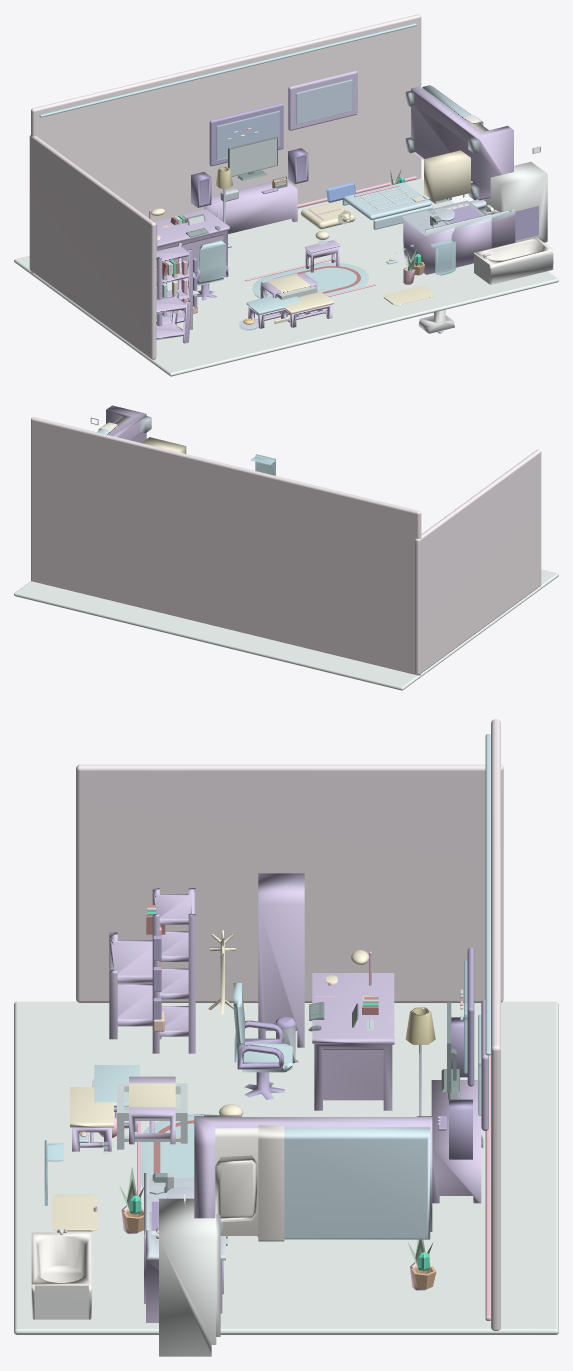
File: macaron_room.glb
3 renders of one model, top to bottom at view 1: azimuth 30°, elevation 25°; view 2: azimuth 150°, elevation 25°; view 3: azimuth 270°, elevation 25°, orthographic. The views are drawn at different scales.
Parts seen in each view (by area): view 1: RoomBackWall, RoomFloor, RoomLeftWall, KenneyBedSingleDetailed_bedSingle, KenneyKitchenFridgeDetailed_kitchenFridgeSmall, WindowFrame, KenneyTelevisionCabinetDetailed_cabinetTelevisionDoors, MediaScreenFrame, KenneyBathtubDetailed_bathtub, KenneyKitchenCabinetDrawerDetailed_kitchenCabinetDrawer, KenneyKitchenStoveDetailed_kitchenStoveElectric, KenneyKitchenUpperCabinetDetailed_kitchenCabinetUpperDouble (+22 smaller); view 2: RoomBackWall, RoomLeftWall, RoomFloor, KenneyBedSingleDetailed_bedSingle, KenneyBathroomMirror_bathroomMirror, KenneyKitchenUpperCabinetDetailed_kitchenCabinetUpperDouble; view 3: RoomFloor, RoomLeftWall, KenneyBedSingleDetailed_bedSingle, KenneyDeskDetailed_desk, KenneyKitchenFridgeDetailed_kitchenFridgeSmall, KenneyWardrobeDetailed_bookcaseClosedDoors, RoomBackWall, KenneyBookcaseOpenDetailed_bookcaseOpen, KenneyBathtubDetailed_bathtub, KenneyTelevisionCabinetDetailed_cabinetTelevisionDoors, KenneyLowBookcase_bookcaseOpenLow, KenneyDeskChairDetailed_chairDesk (+15 smaller).
Boxes of the visible parts, x1,y1,x2,y2 form: RoomBackWall: [31, 14, 421, 273]; RoomFloor: [14, 178, 558, 376]; RoomLeftWall: [29, 135, 156, 359]; KenneyBedSingleDetailed_bedSingle: [405, 85, 513, 200]; KenneyKitchenFridgeDetailed_kitchenFridgeSmall: [484, 161, 547, 242]; WindowFrame: [288, 70, 357, 130]; KenneyTelevisionCabinetDetailed_cabinetTelevisionDoors: [204, 181, 297, 233]; MediaScreenFrame: [209, 103, 283, 166]; KenneyBathtubDetailed_bathtub: [474, 237, 553, 284]; KenneyKitchenCabinetDrawerDetailed_kitchenCabinetDrawer: [402, 206, 465, 274]; KenneyKitchenStoveDetailed_kitchenStoveElectric: [427, 200, 491, 267]; KenneyKitchenUpperCabinetDetailed_kitchenCabinetUpperDouble: [424, 150, 470, 201]; RoomBackWall: [31, 417, 421, 675]; RoomLeftWall: [415, 449, 541, 675]; RoomFloor: [14, 569, 558, 690]; KenneyBedSingleDetailed_bedSingle: [97, 405, 151, 442]; KenneyBathroomMirror_bathroomMirror: [250, 454, 275, 475]; KenneyKitchenUpperCabinetDetailed_kitchenCabinetUpperDouble: [141, 437, 186, 453]; RoomFloor: [14, 1001, 558, 1334]; RoomLeftWall: [76, 764, 503, 1002]; KenneyBedSingleDetailed_bedSingle: [194, 1116, 432, 1241]; KenneyDeskDetailed_desk: [312, 973, 394, 1110]; KenneyKitchenFridgeDetailed_kitchenFridgeSmall: [159, 1198, 222, 1356]; KenneyWardrobeDetailed_bookcaseClosedDoors: [258, 873, 304, 1047]; RoomBackWall: [491, 719, 500, 1330]; KenneyBookcaseOpenDetailed_bookcaseOpen: [152, 888, 195, 1053]; KenneyBathtubDetailed_bathtub: [31, 1228, 91, 1319]; KenneyTelevisionCabinetDetailed_cabinetTelevisionDoors: [431, 1080, 483, 1203]; KenneyLowBookcase_bookcaseOpenLow: [109, 932, 161, 1039]; KenneyDeskChairDetailed_chairDesk: [233, 983, 292, 1099].
Size of the model in its own units: 5.02 by 2.33 by 3.25.
